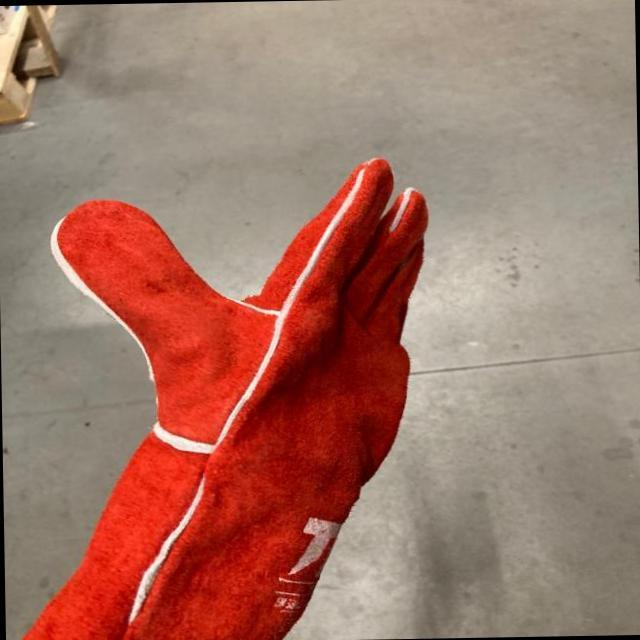glove: (41, 155, 455, 621)
